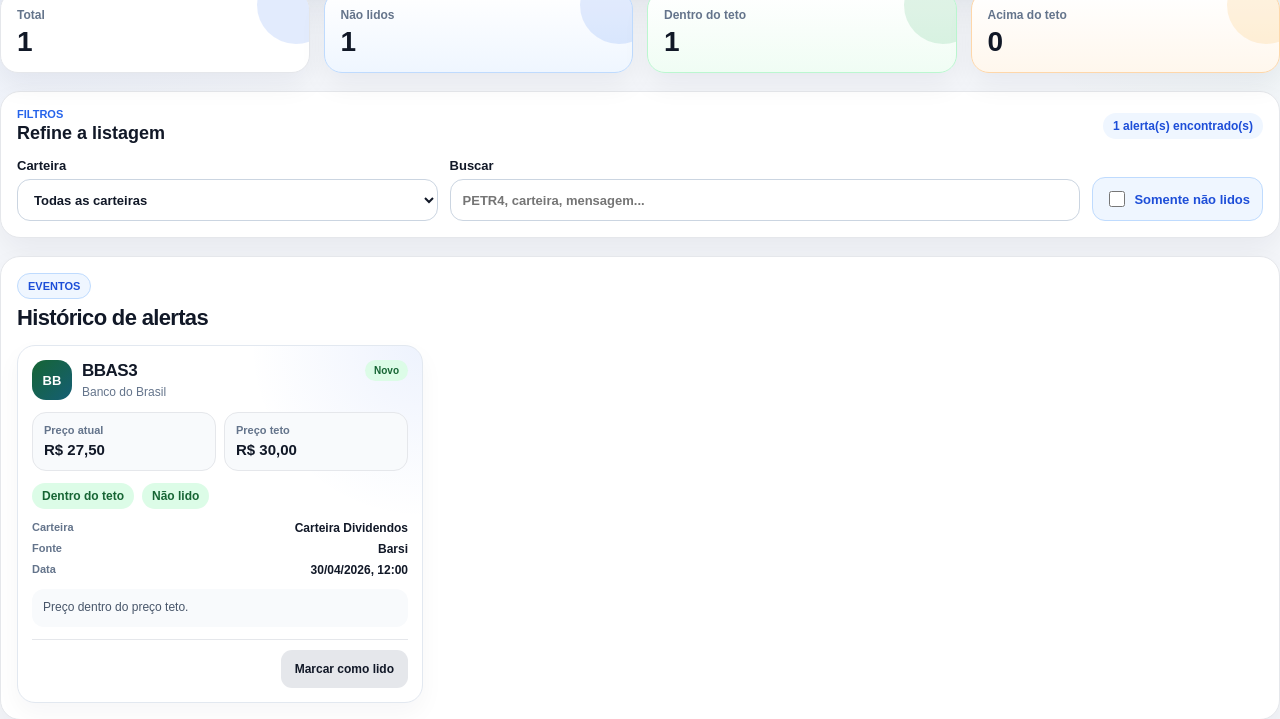
it: AlertEventsPage › marca um alerta como lido
(page scrolled)
Expected: the heading "BBAS3" is shown, x1=82 y1=361 x2=137 y2=380
Click the button "Marcar como lido": (344, 669) x1=281 y1=650 x2=408 y2=688
(page scrolled)
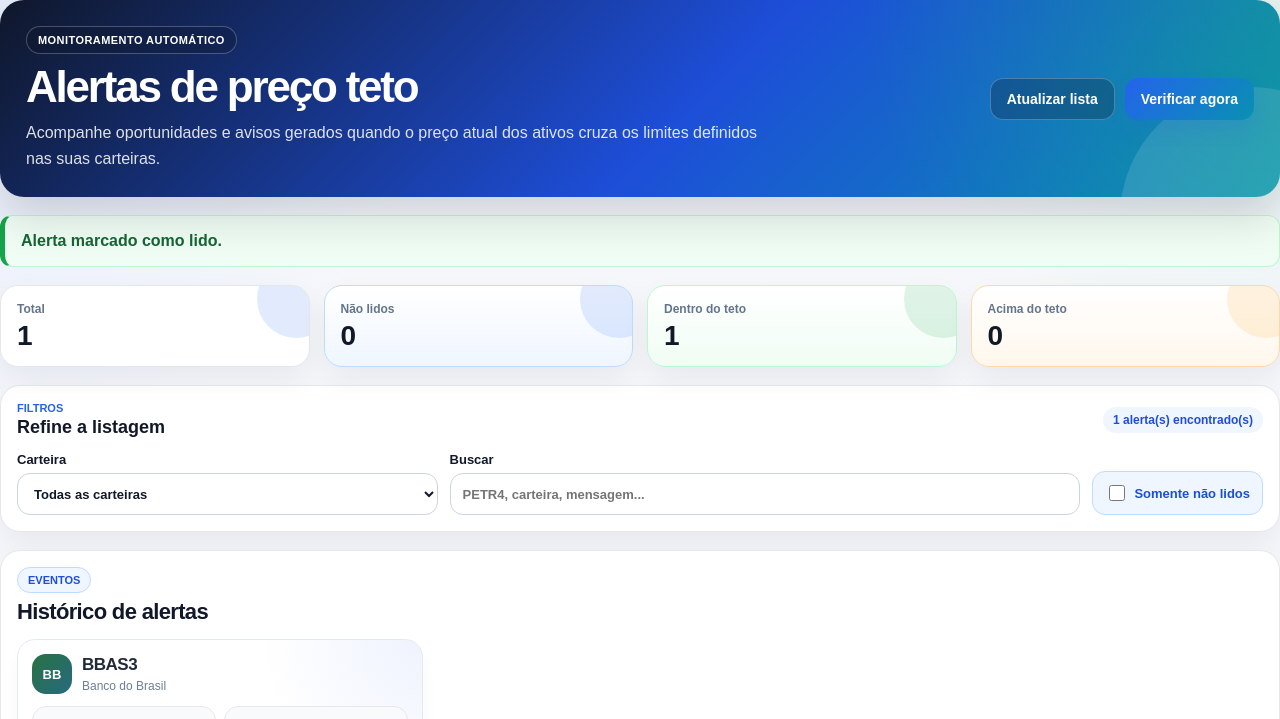
Now the text "Alerta marcado como lido." is shown, box x1=0 y1=215 x2=1279 y2=267
